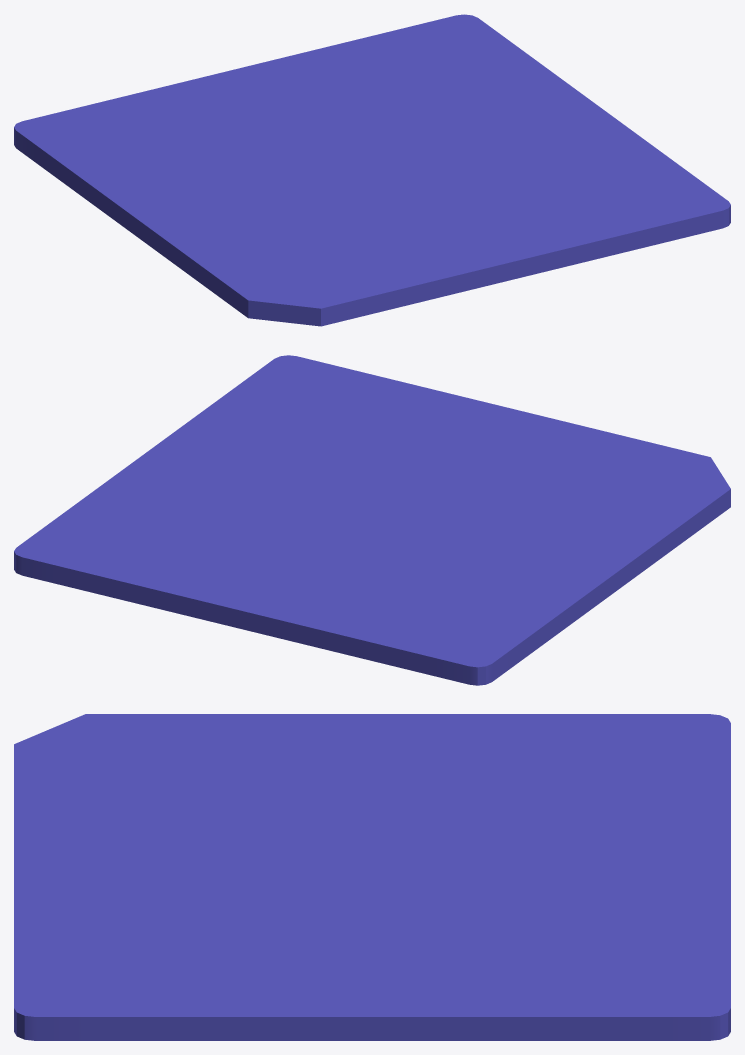
File: D_FloppyDisk.fbx
3 views of the same model, one above another, from view 1: azimuth 30°, elevation 25°; view 2: azimuth 150°, elevation 25°; view 3: azimuth 270°, elevation 25° (orthographic). The views are drawn at different scales.
Parts seen in each view (by area): view 1: D_FloppyDisk; view 2: D_FloppyDisk; view 3: D_FloppyDisk.
Boxes of the visible parts, x1,y1,x2,y2 form: D_FloppyDisk: [14, 14, 730, 326]; D_FloppyDisk: [14, 355, 730, 685]; D_FloppyDisk: [14, 714, 730, 1040].
Size of the model in its own units: 1.44 by 0.0532 by 1.44.
